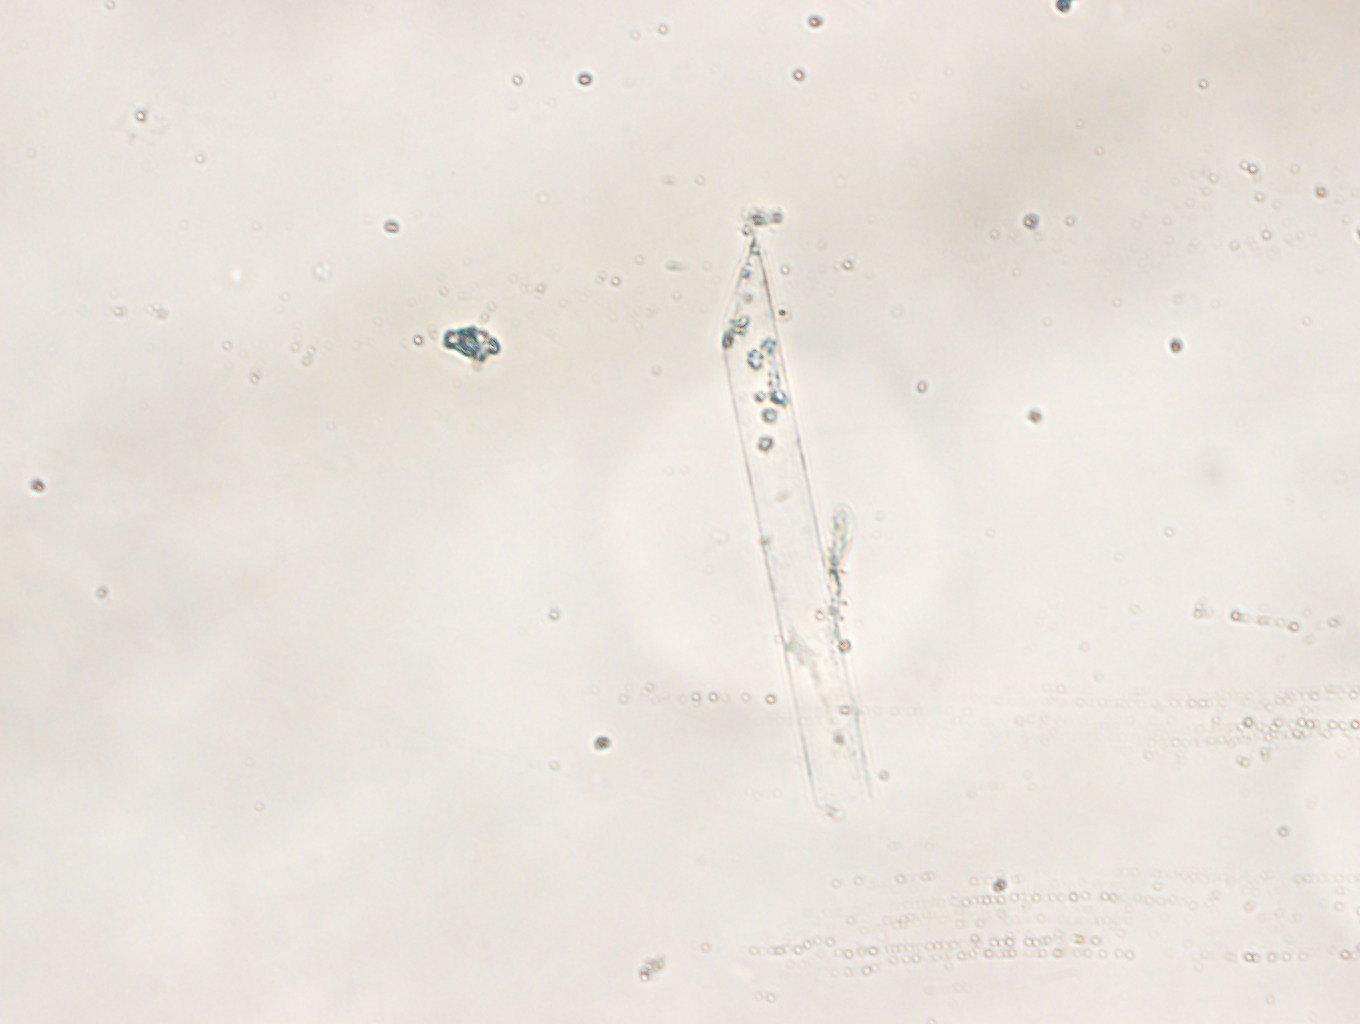rhizosolenia: (720, 234, 873, 812)
